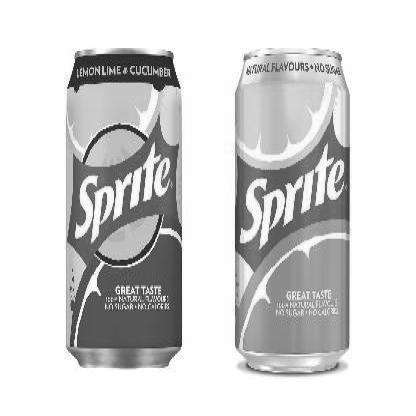alumunium_can: (65, 44, 184, 372), (234, 44, 351, 376)
